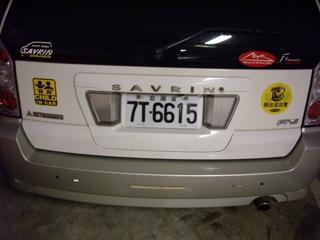plate: (124, 92, 200, 129)
